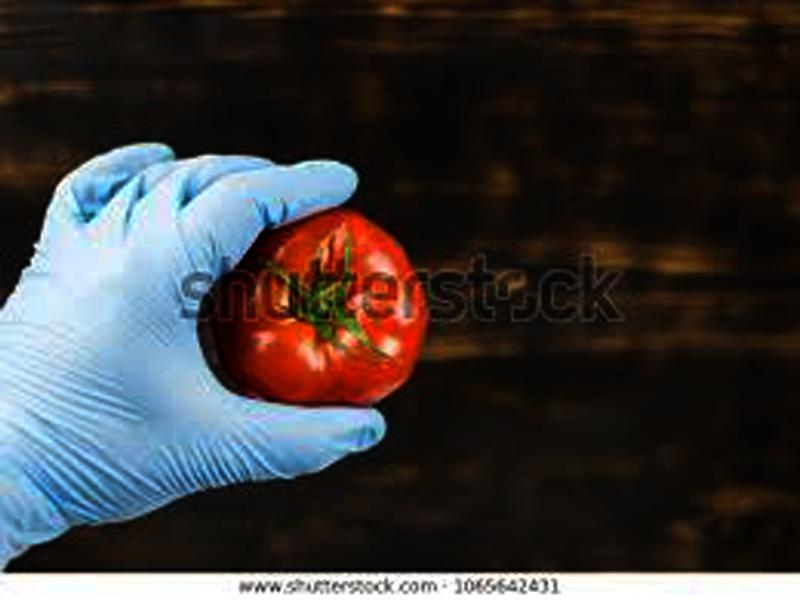Tomato: (209, 207, 431, 408)
